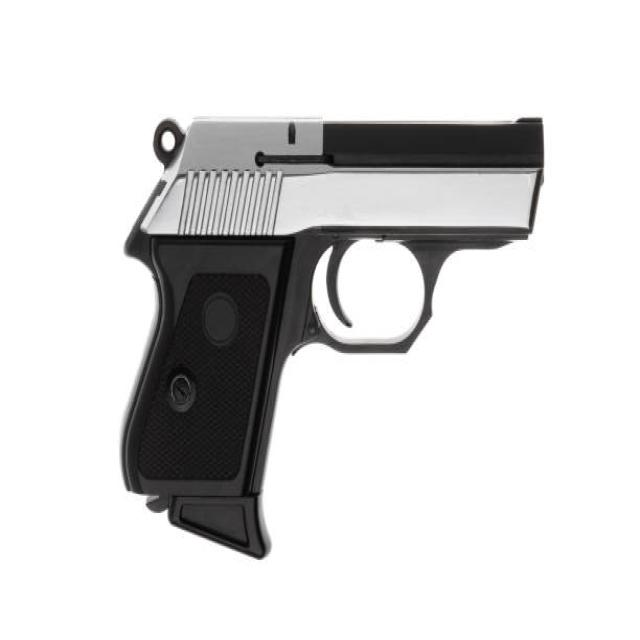pistol: (110, 95, 558, 570)
